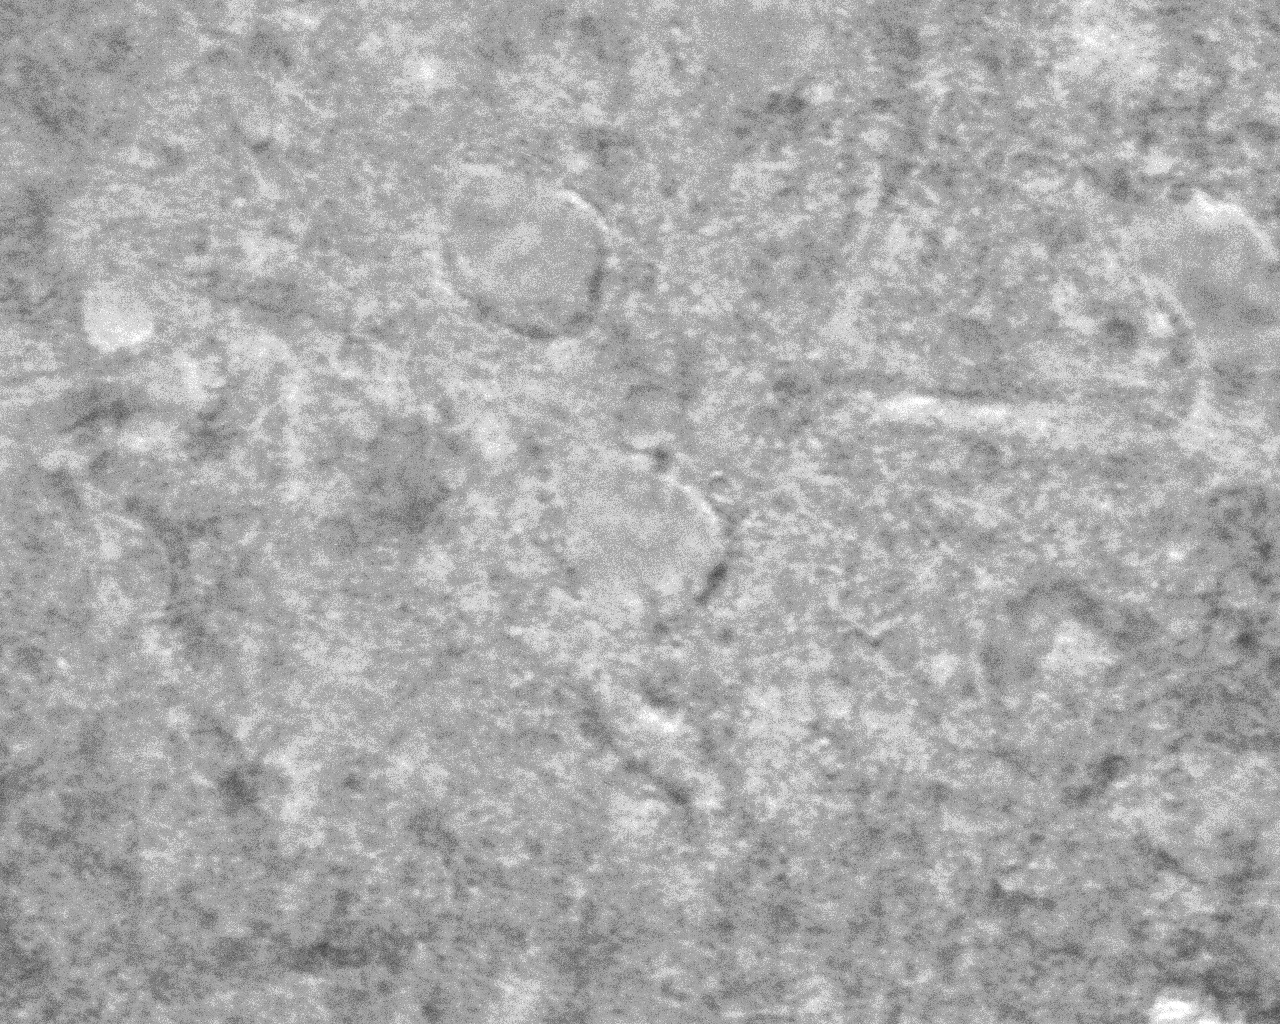neuron: (425, 153, 616, 350), (598, 444, 747, 656)
